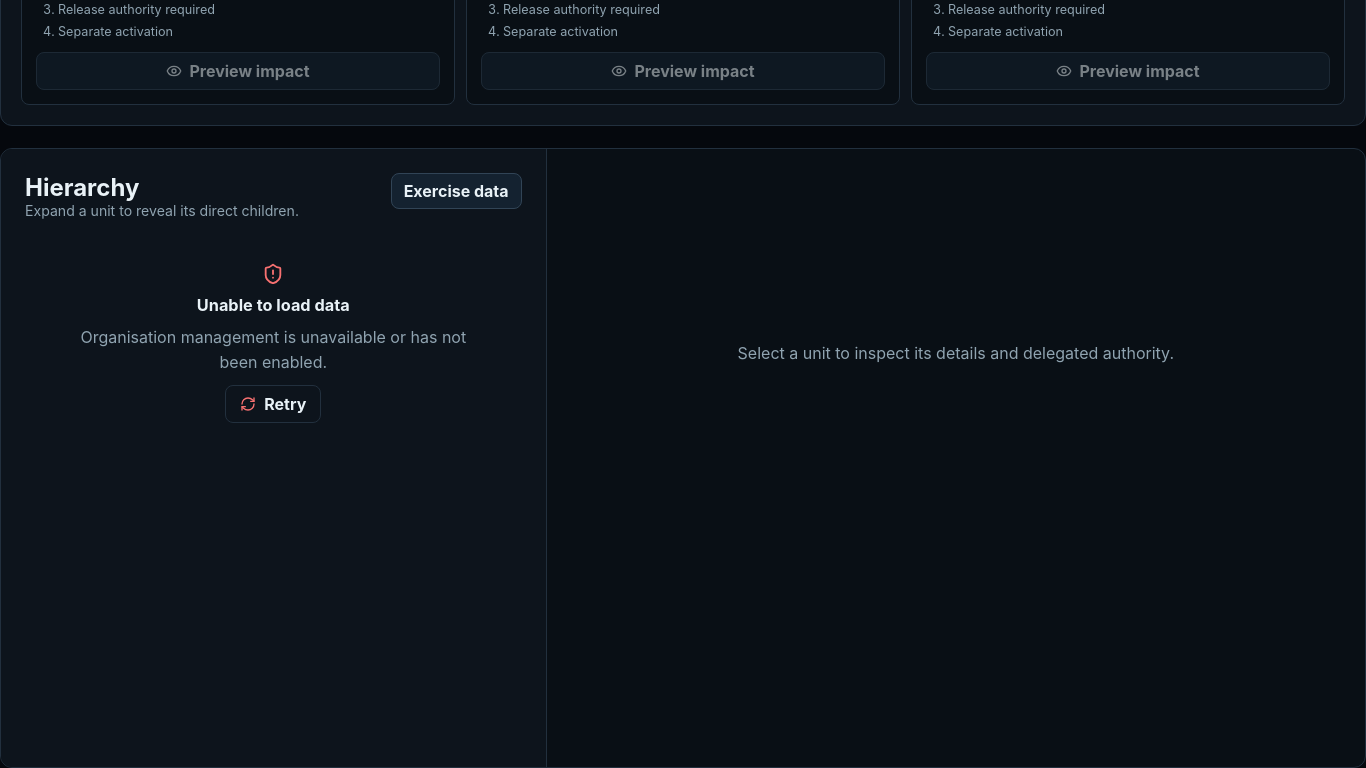
Scenario: presents a recoverable management-plane error
(page scrolled)
What coordinates should you click on to do the following:
click the button "Retry"
I would click on:
 (273, 404)
Its box is [225,385,321,423].
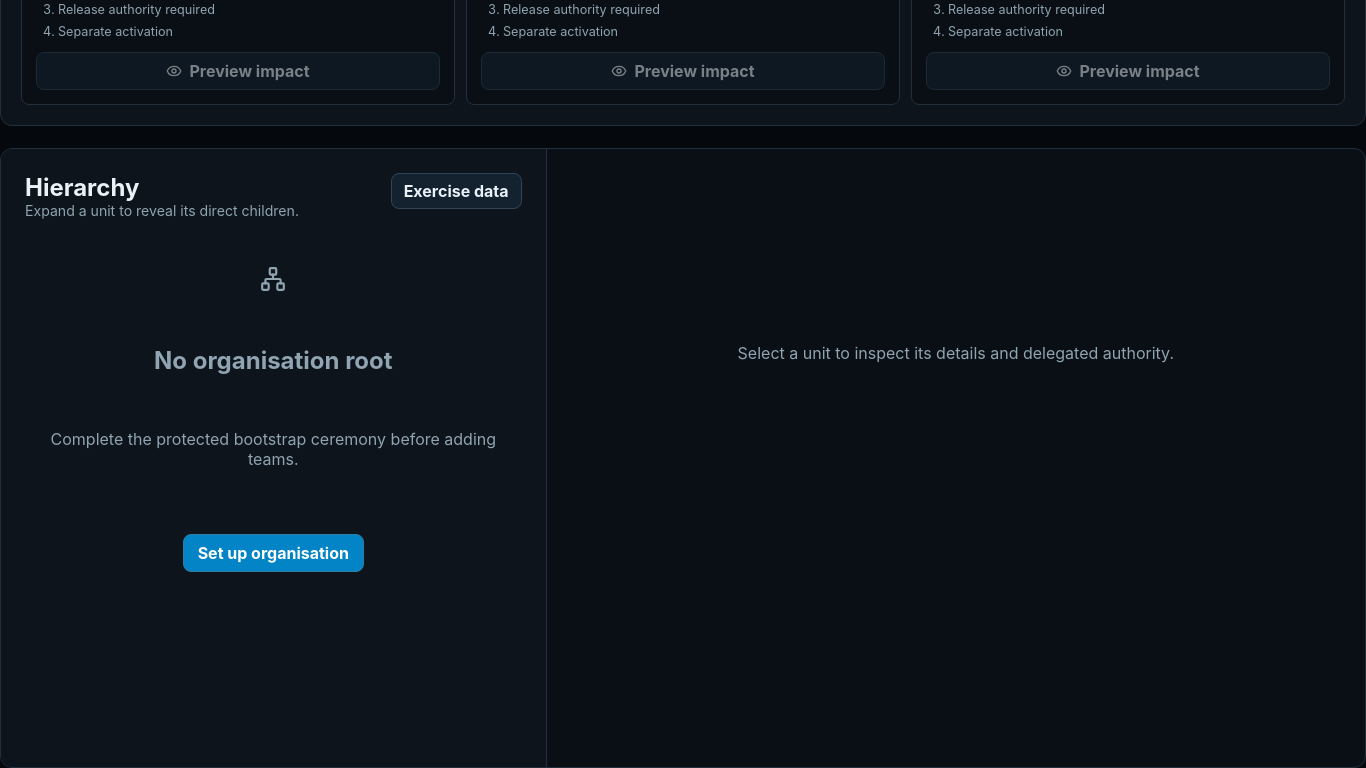
Expected: the heading "No organisation root" is shown, [154,346,393,375]
